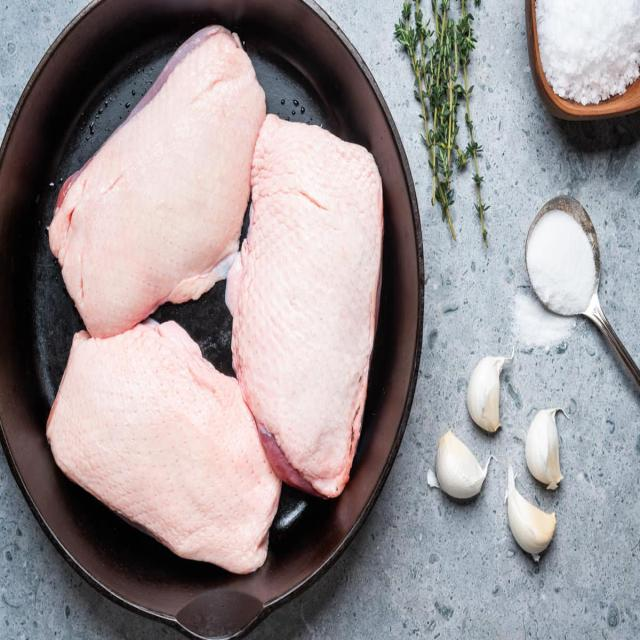duck: (46, 319, 295, 574), (0, 448, 183, 638), (168, 220, 260, 373)
